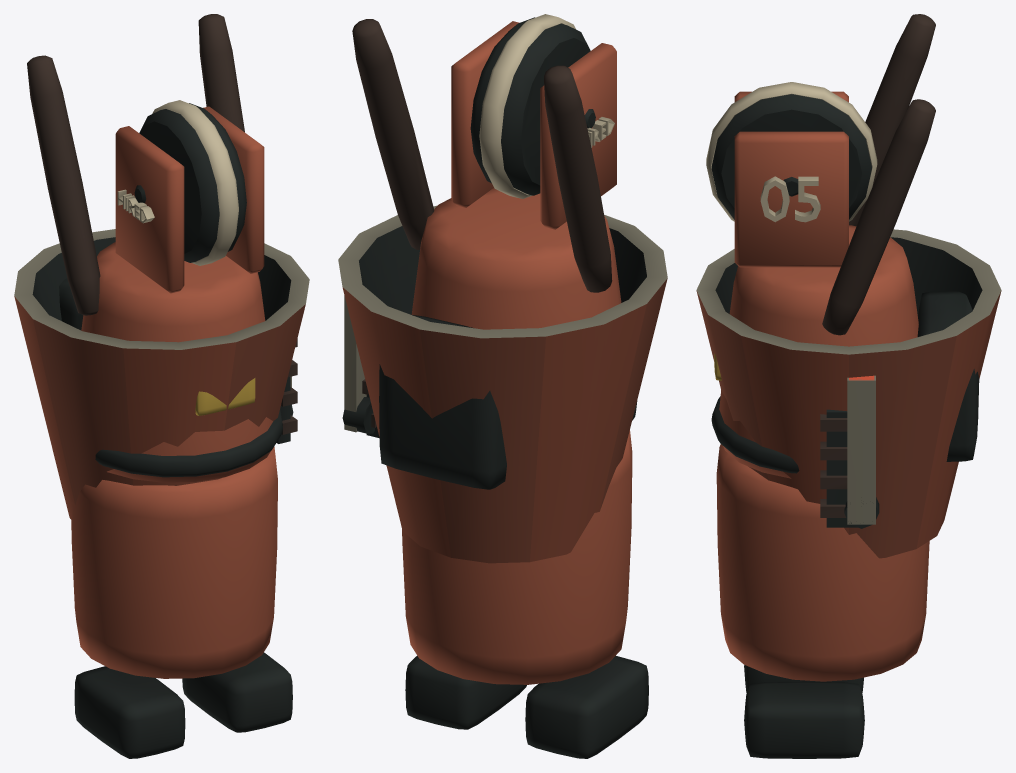
Rendered from enemy_catch_trap.glb.
3 renders of one model, left to right at view 1: azimuth 30°, elevation 25°; view 2: azimuth 150°, elevation 25°; view 3: azimuth 270°, elevation 25°, orthographic. The views are drawn at different scales.
Parts seen in each view (by area): view 1: CatchBody, CatchCup; view 2: CatchBody, CatchCup; view 3: CatchBody, CatchCup.
Boxes of the visible parts, left/top/right/bottom form: CatchBody: left=27, top=14, right=292, bottom=758; CatchCup: left=14, top=229, right=309, bottom=519; CatchBody: left=352, top=14, right=648, bottom=758; CatchCup: left=338, top=205, right=667, bottom=563; CatchBody: left=706, top=14, right=979, bottom=758; CatchCup: left=696, top=229, right=1001, bottom=558.
Size of the model in its own units: 0.96 by 2.3 by 0.96.
